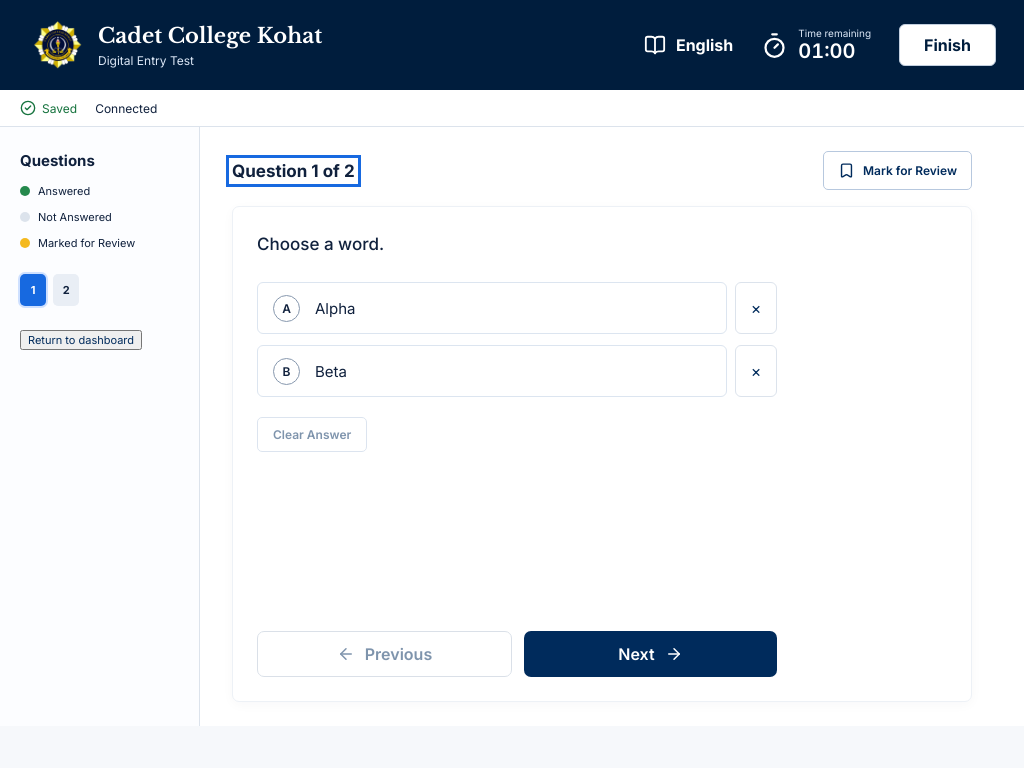
live CCK candidate workflow › never displays success after a failed submission request
The image size is (1024, 768).
Click the button "Finish" at [948, 45], box x1=899 y1=24 x2=996 y2=66
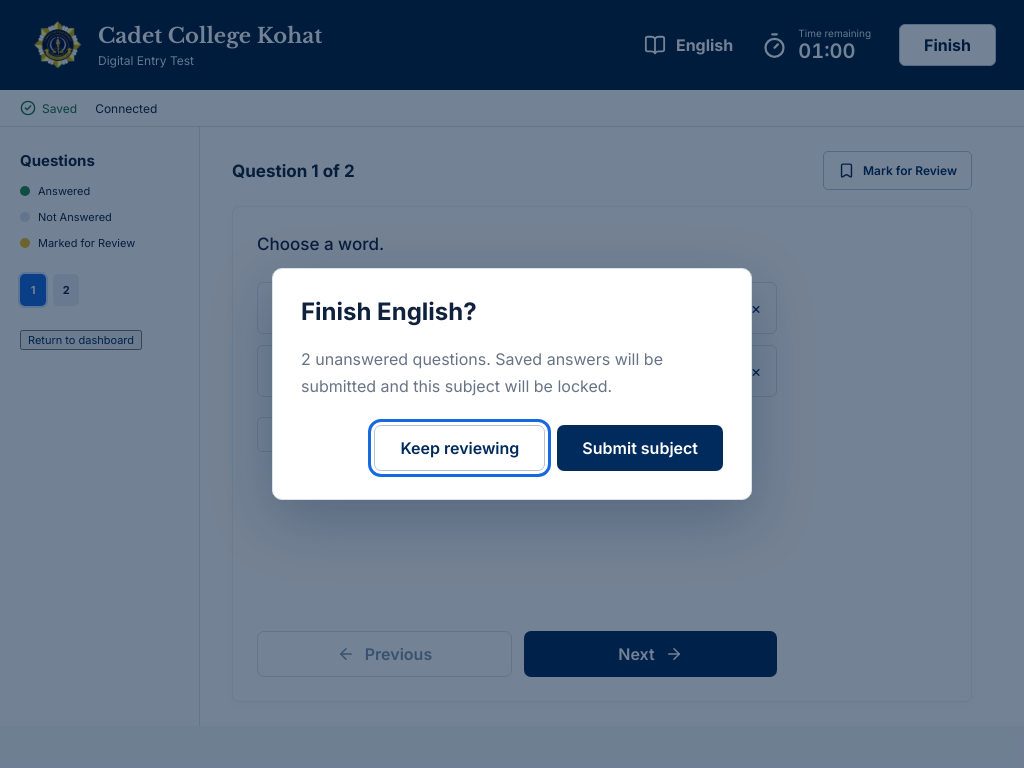
Click the button "Submit subject" at [640, 448], box x1=557 y1=425 x2=723 y2=471
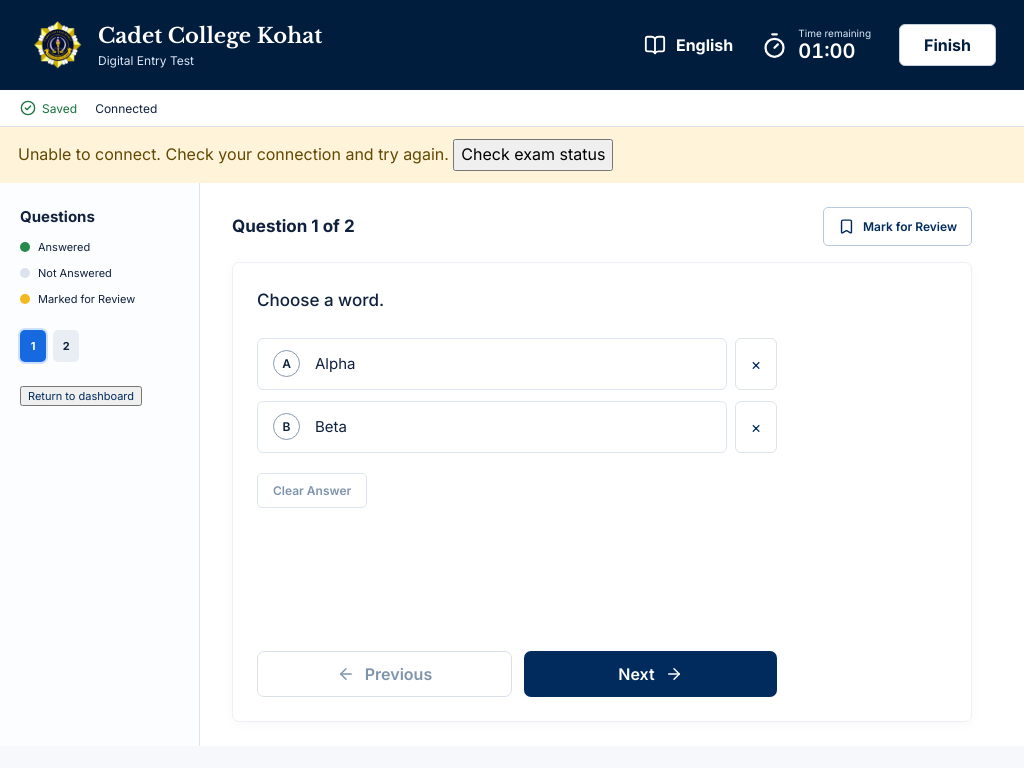
Expected: the button "Finish" is enabled, x1=899 y1=24 x2=996 y2=66
Now the text "Unable to connect. Check your connection and try again. Check exam status" is shown, box x1=0 y1=127 x2=1023 y2=183
